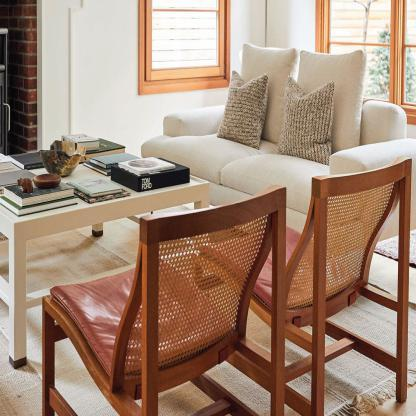chair: (34, 178, 295, 416), (199, 160, 416, 416)
sofa: (135, 48, 410, 246)
table: (0, 159, 210, 373)
